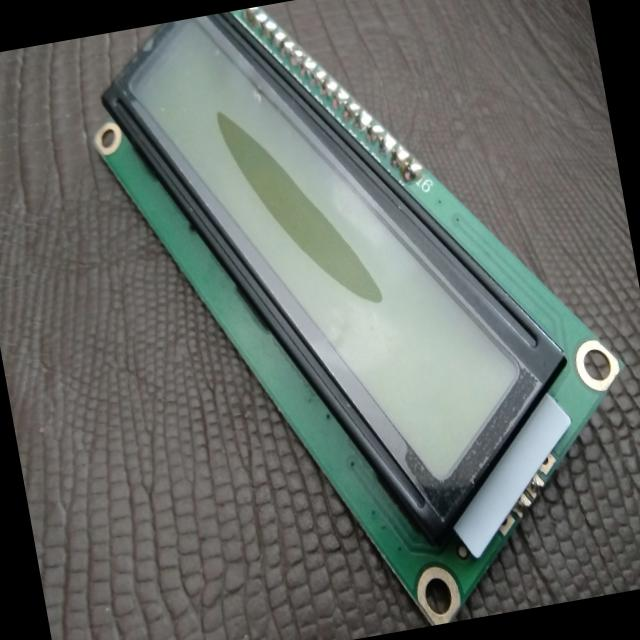lcd: (36, 0, 640, 640)
